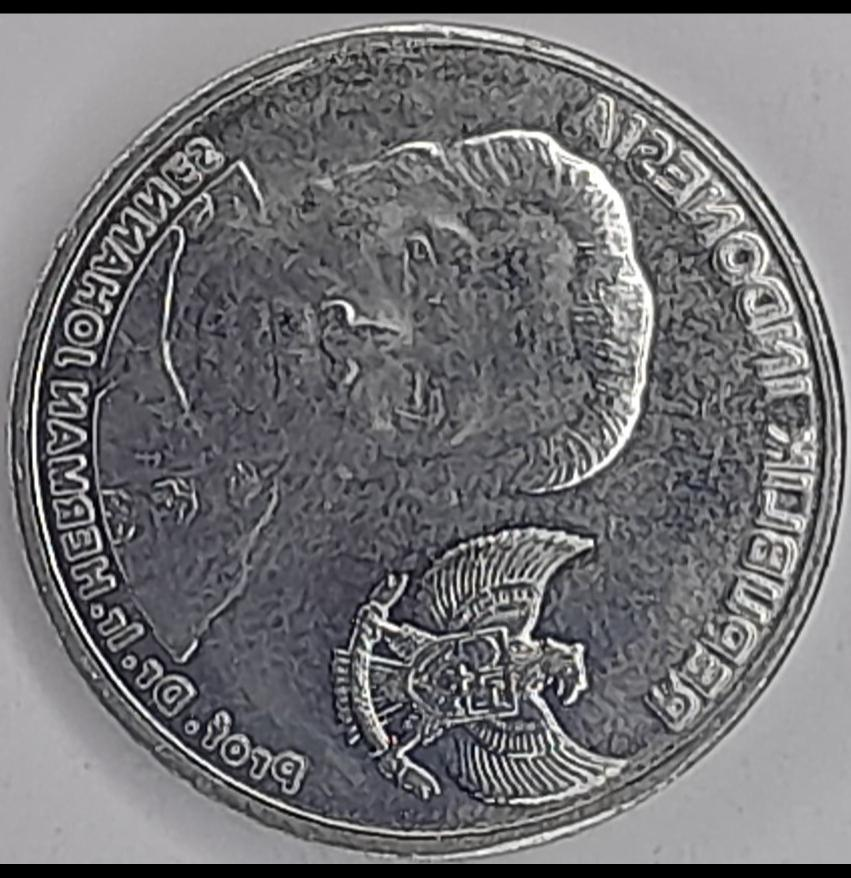coin_100_e2016: (2, 18, 849, 861)
